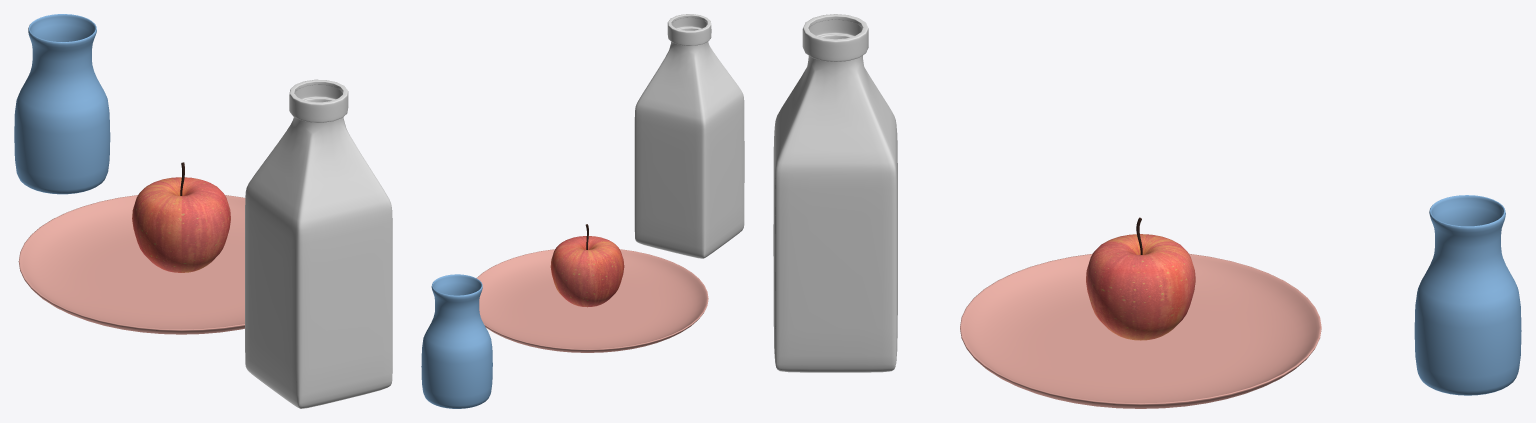
Rendered from JarPlateObjects.fbx.
3 views of the same model, side by side, from view 1: azimuth 30°, elevation 25°; view 2: azimuth 150°, elevation 25°; view 3: azimuth 270°, elevation 25° (orthographic). The views are drawn at different scales.
Visible parts, largest first — view 1: RectJar, plate, Jar, Apple; view 2: RectJar, plate, Jar, Apple; view 3: RectJar, plate, Jar, Apple.
Part boxes in pixels (<box>): RectJar: <box>245,79,392,408</box>; plate: <box>18,195,245,334</box>; Jar: <box>14,14,110,194</box>; Apple: <box>132,162,230,272</box>; RectJar: <box>634,14,744,258</box>; plate: <box>476,249,708,352</box>; Jar: <box>421,274,492,408</box>; Apple: <box>550,224,624,307</box>; RectJar: <box>773,14,897,372</box>; plate: <box>960,253,1321,408</box>; Jar: <box>1414,195,1521,395</box>; Apple: <box>1086,217,1195,340</box>.
Size of the model in its own units: 183 by 186 by 377.
